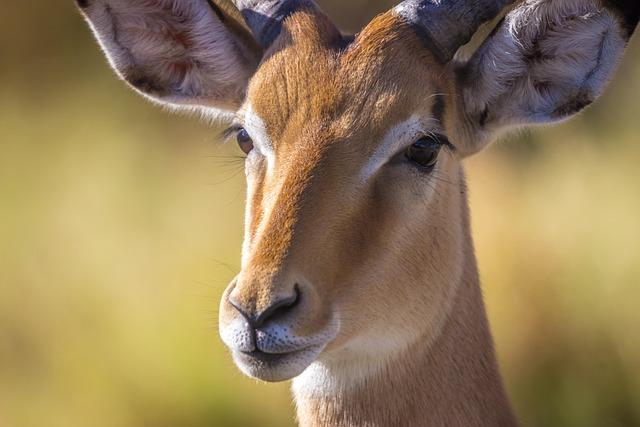Non_Gorille: (47, 0, 585, 427)
